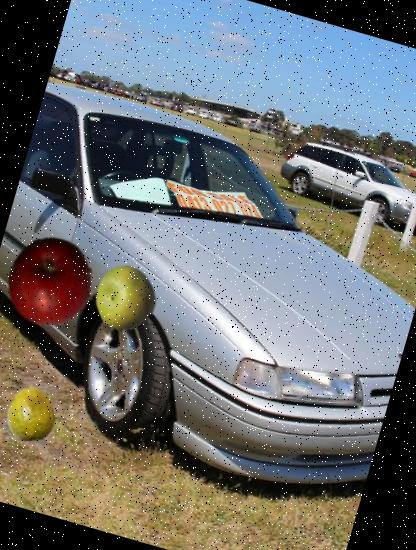Apple: (0, 226, 105, 337)
Guava: (0, 380, 64, 448)
Pomelo: (84, 257, 166, 339)
